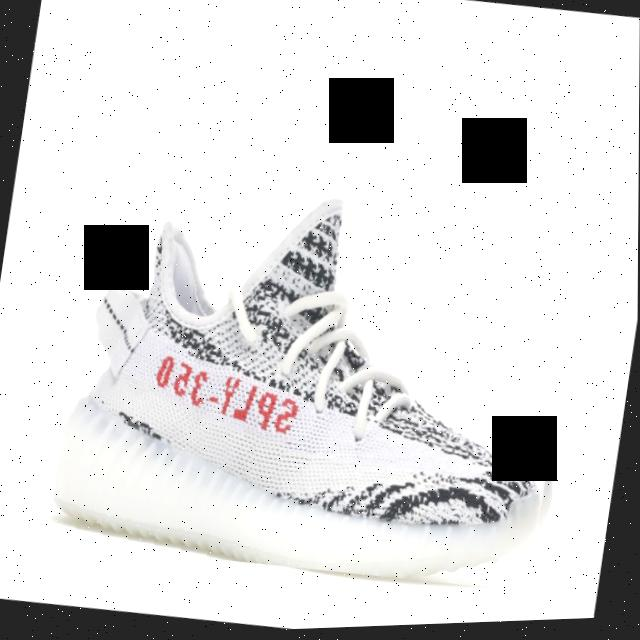shoe: (47, 142, 597, 612)
